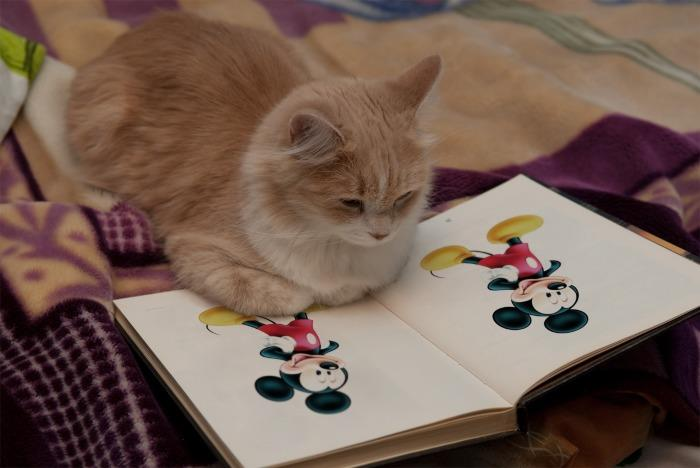Mickey_Mouse: (185, 267, 366, 426)
